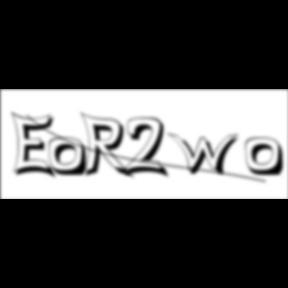2: (123, 117, 173, 181)
E: (12, 110, 60, 182)
R: (80, 112, 138, 182)
o: (48, 137, 90, 179), (245, 137, 287, 179)
w: (168, 132, 246, 178)
